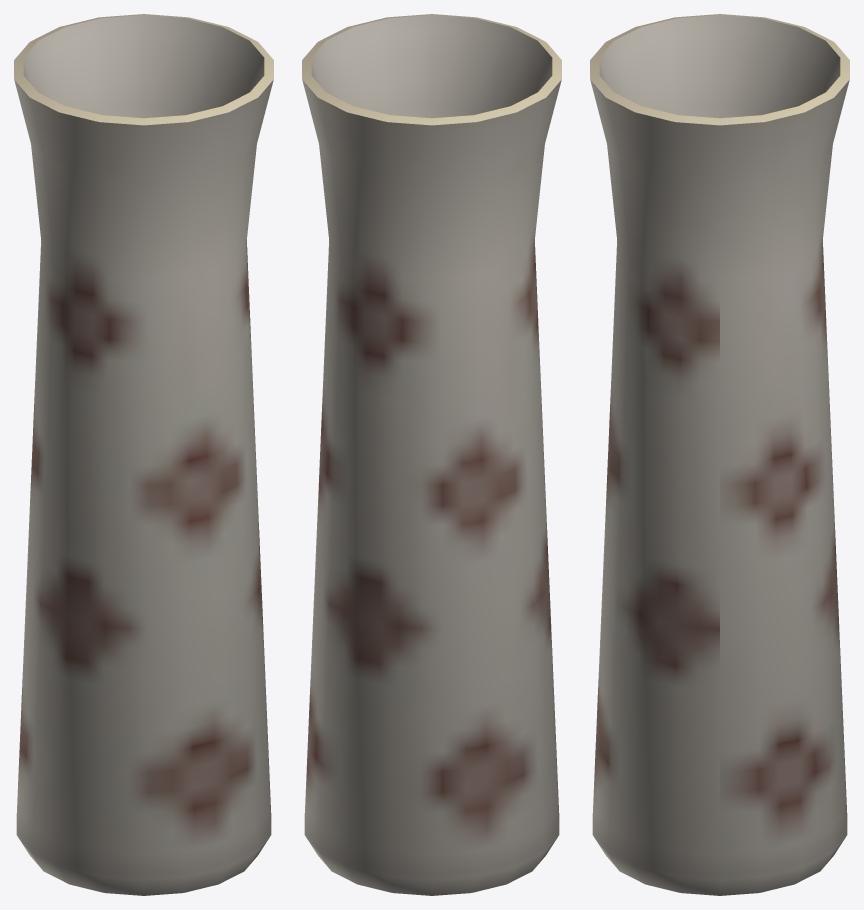
File: KP_Vase.FBX
3 views of the same model, side by side, from view 1: azimuth 30°, elevation 25°; view 2: azimuth 150°, elevation 25°; view 3: azimuth 270°, elevation 25° (orthographic).
Parts seen in each view (by area): view 1: KP_Vase; view 2: KP_Vase; view 3: KP_Vase.
Part boxes in pixels (left/top/right/bottom): KP_Vase: left=14, top=14, right=273, bottom=895; KP_Vase: left=302, top=14, right=561, bottom=895; KP_Vase: left=590, top=14, right=849, bottom=895.
Size of the model in its own units: 10.95 by 35.74 by 10.78.
